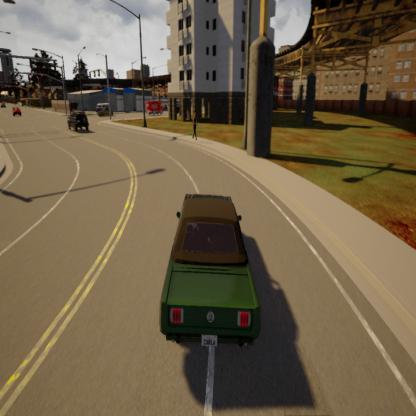Cars: (156, 181, 268, 378), (59, 105, 96, 148), (145, 98, 165, 118), (96, 98, 112, 118), (9, 105, 24, 120)
Pedestrian: (190, 112, 200, 150)
